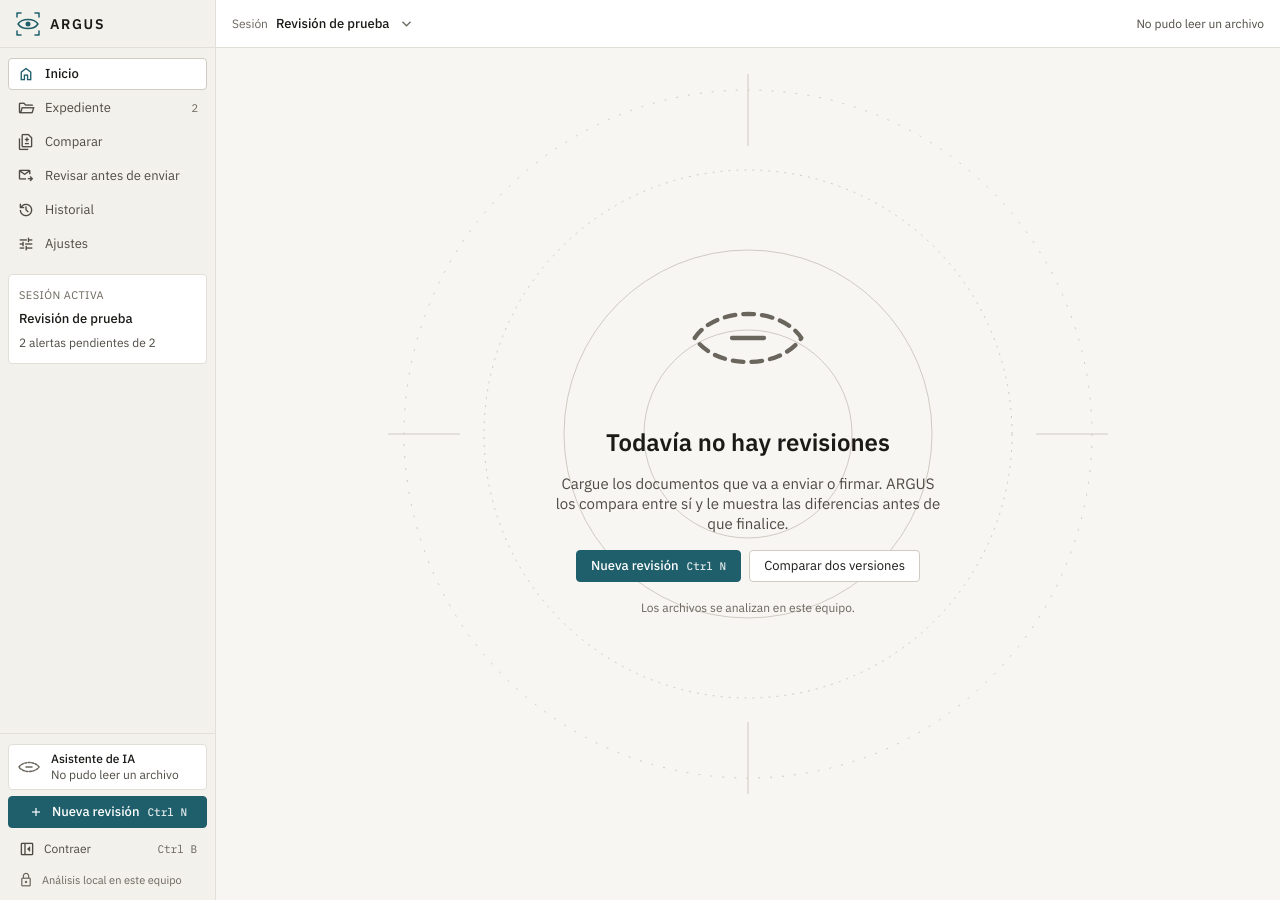
Test: Expediente: datos confirmados › sin datos pide confirmarlos y «Agregar dato» guarda el primero
Click the button "Expediente 2" at [108, 108], box [8,92,207,124]
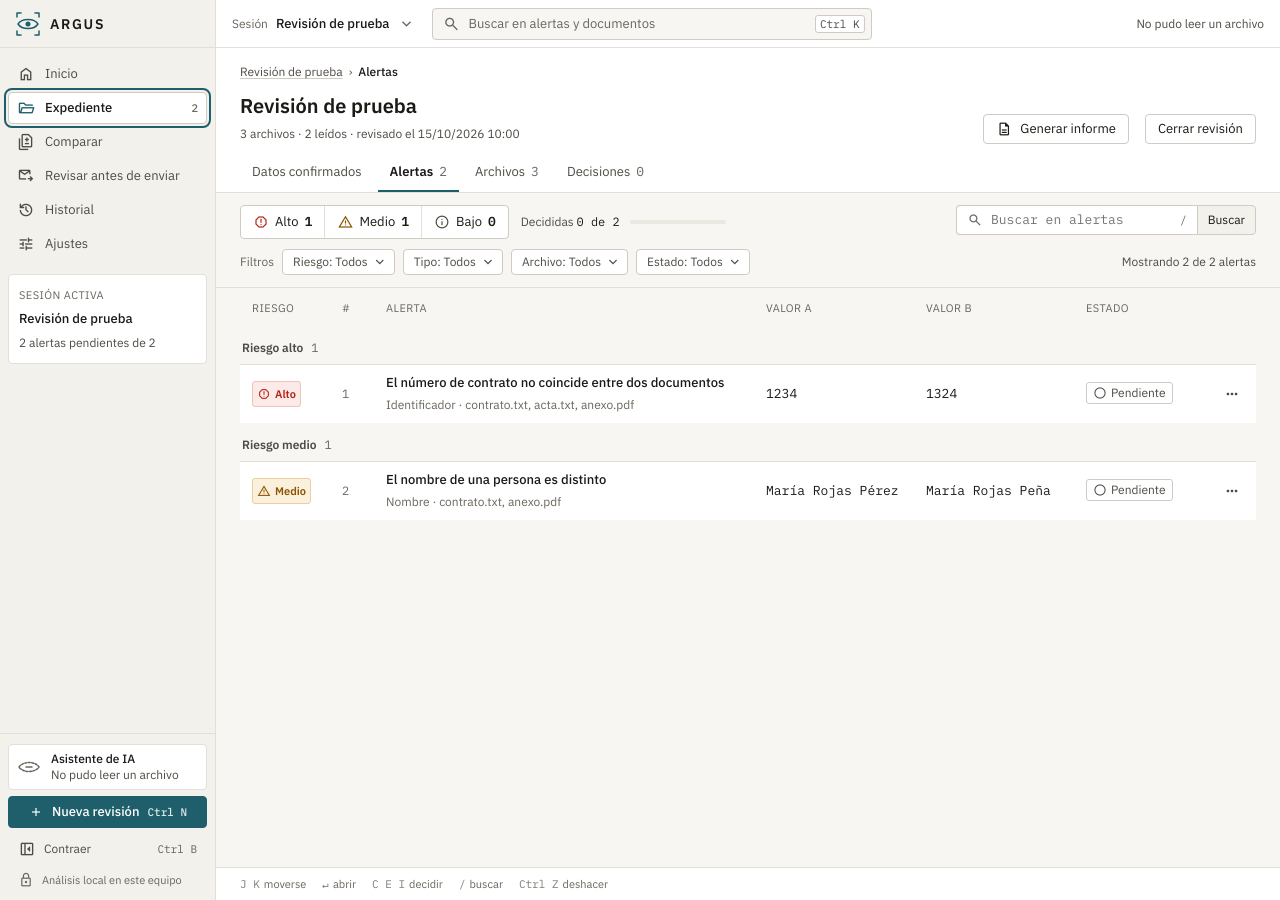
Click the tab "Datos confirmados" at [307, 173], box [240,154,374,192]
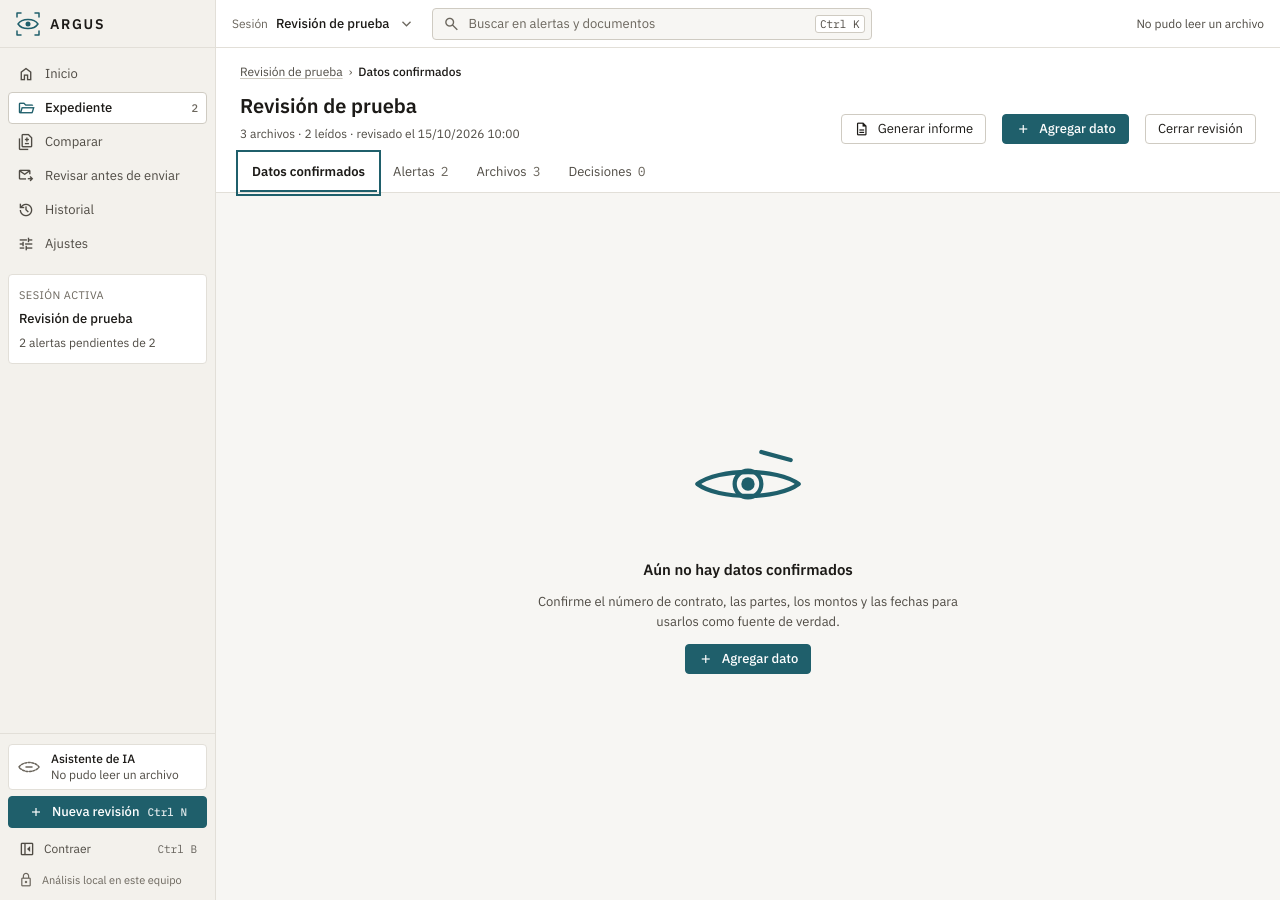
Check: the heading "Aún no hay datos confirmados" is shown, box [643,560,853,580]
Click the 1st button "Agregar dato" at [1066, 129], box [1002,114,1129,144]
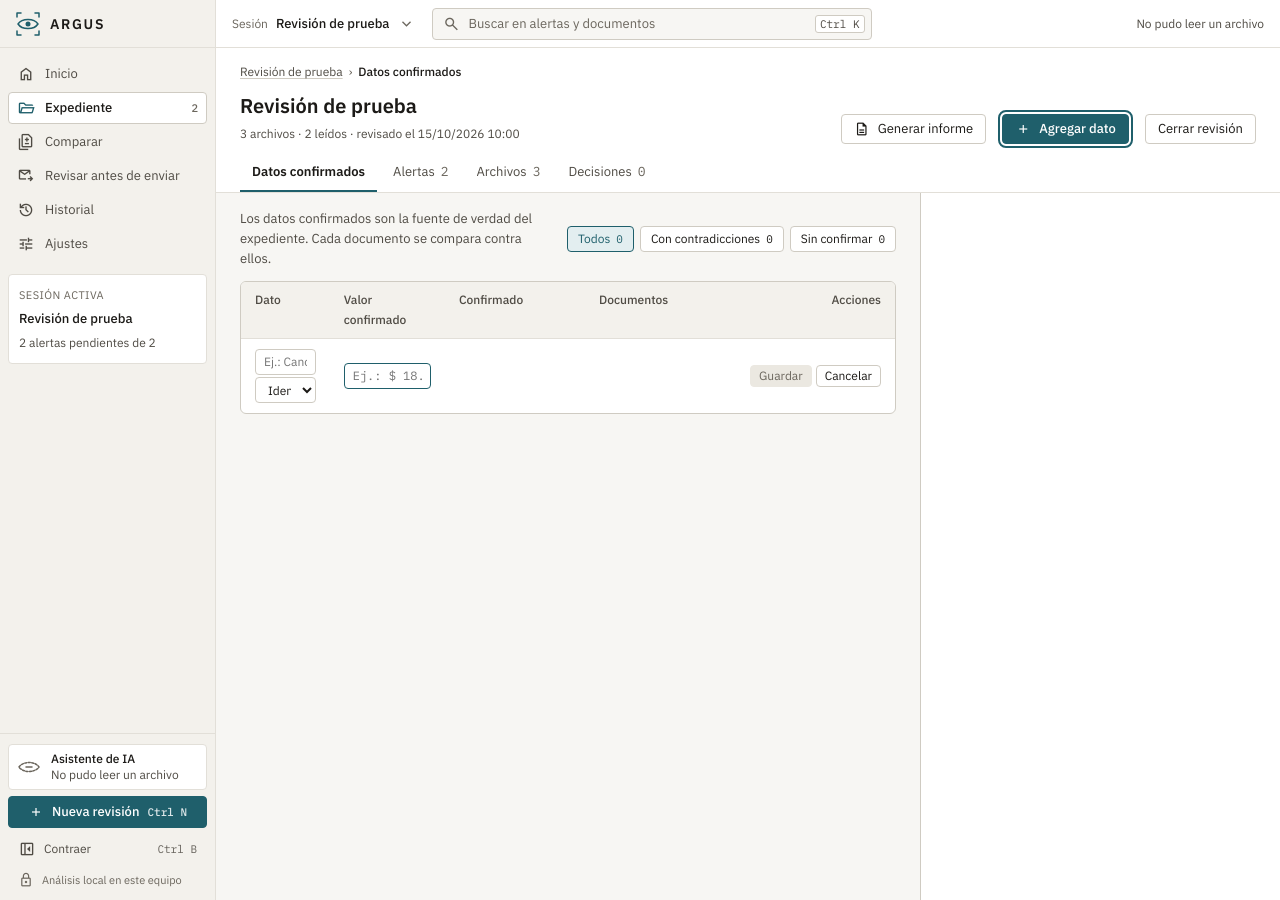
Type "Número de contrato" into the field named "Nombre del dato" at [285, 362], box [255,349,316,375]
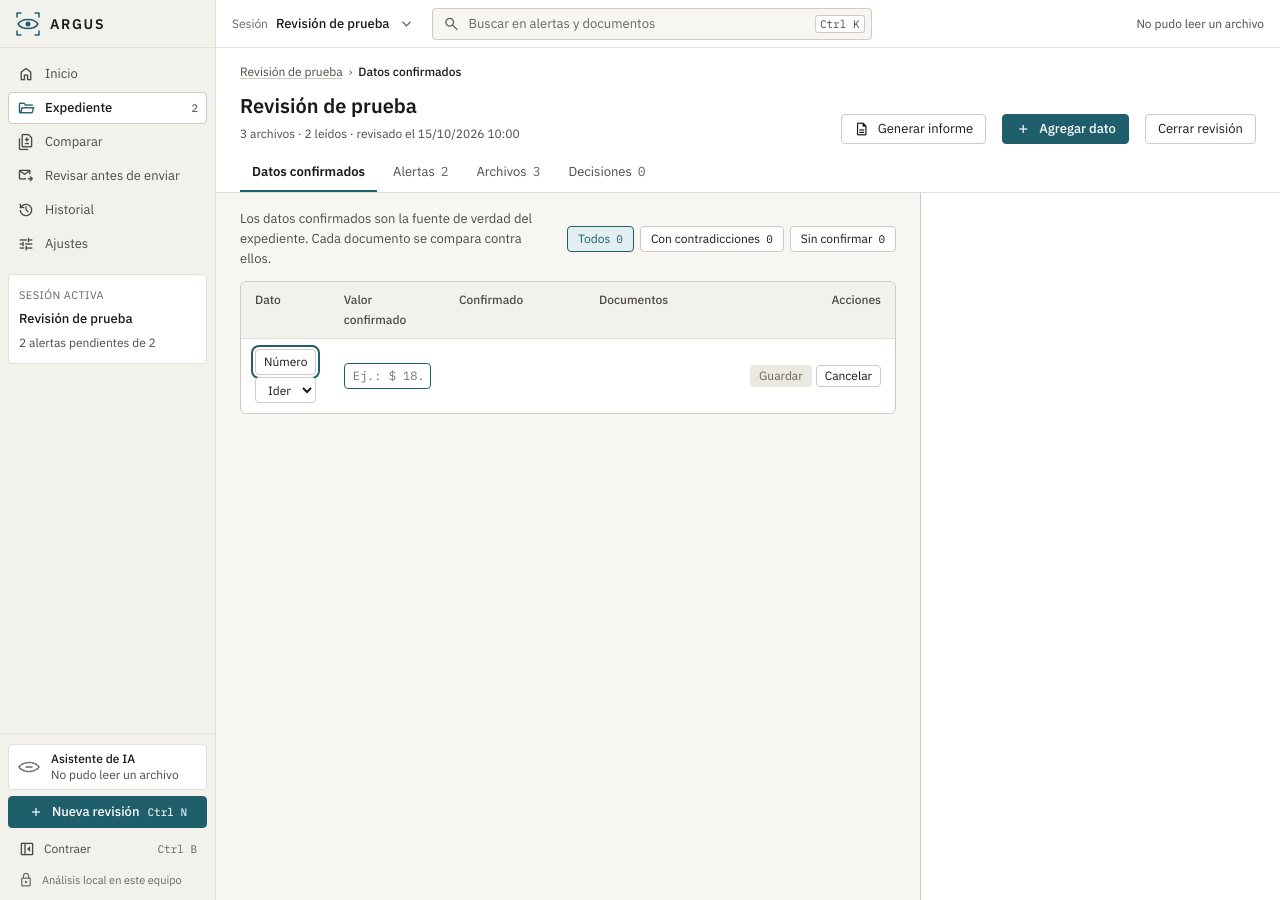
Type "4857" into the field named "Valor confirmado" at [387, 376], box [344,363,431,389]
Then press Enter
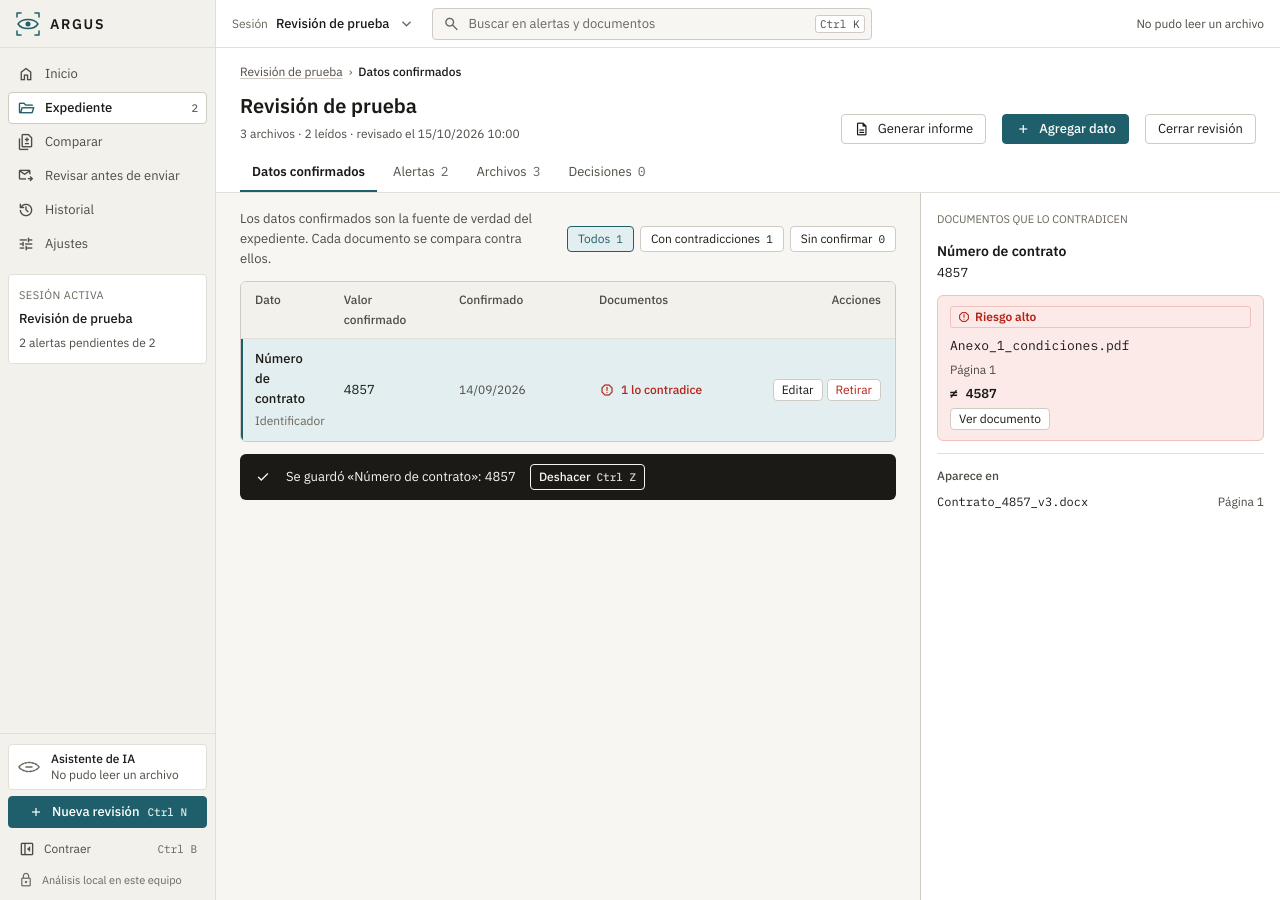
Check: the text "Se guardó «Número de contrato»: 4857" is shown, box [286,467,516,487]
